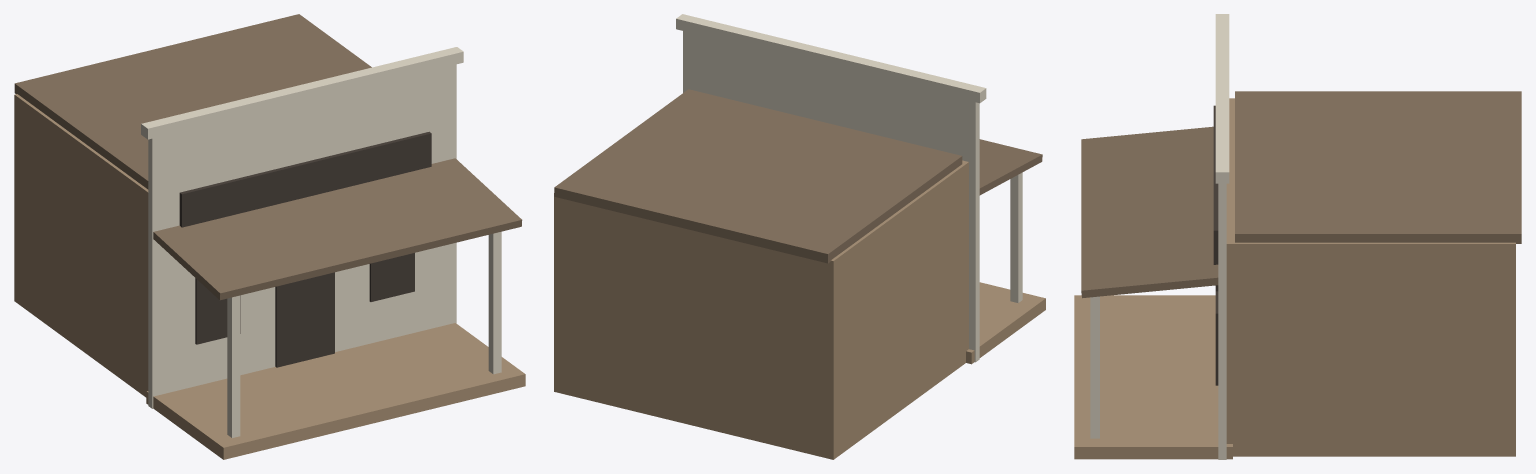
The model's file is Storefront_Brown.glb.
3 views of the same model, side by side, from view 1: azimuth 30°, elevation 25°; view 2: azimuth 150°, elevation 25°; view 3: azimuth 270°, elevation 25° (orthographic). The views are drawn at different scales.
Visible parts, largest first — view 1: Storefront_Brown; view 2: Storefront_Brown; view 3: Storefront_Brown.
Boxes of the visible parts, bbox=[...] form: Storefront_Brown: bbox=[14, 14, 525, 459]; Storefront_Brown: bbox=[554, 14, 1045, 459]; Storefront_Brown: bbox=[1074, 14, 1521, 459].
Bounding box in the file's own units: 5.44 × 4.65 × 6.49.
